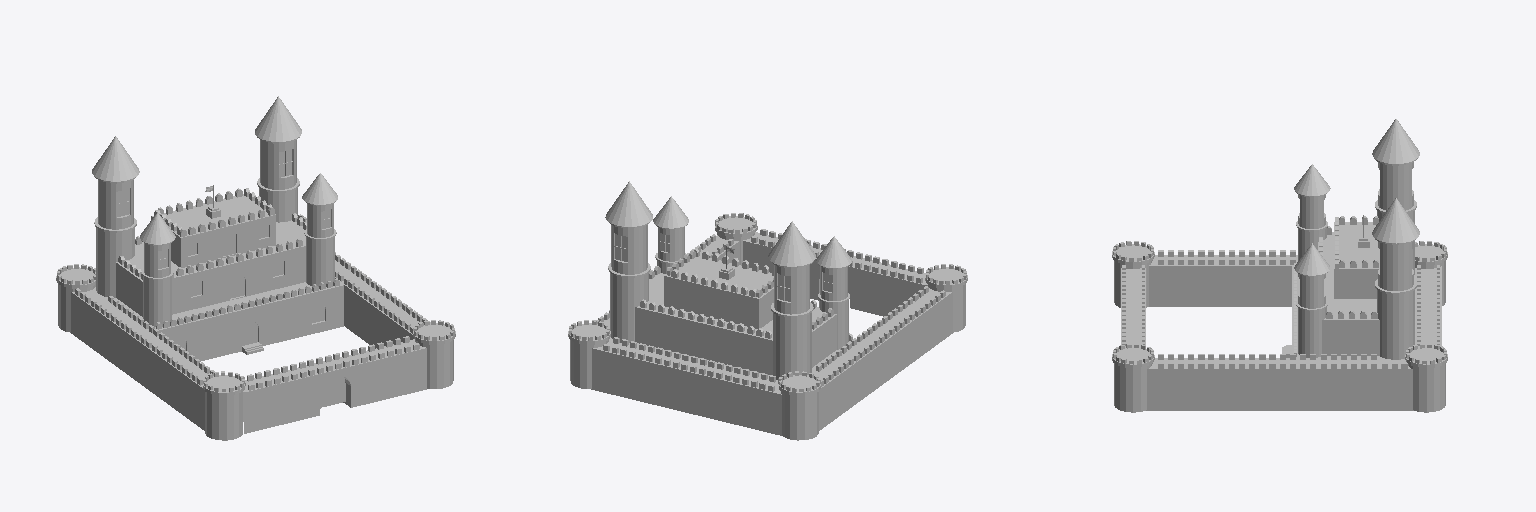
File: castle.obj
3 renders of one model, left to right at view 1: azimuth 30°, elevation 25°; view 2: azimuth 150°, elevation 25°; view 3: azimuth 270°, elevation 25°, orthographic.
Visible parts, largest first — view 1: Castle_Exterior1; view 2: Castle_Exterior1; view 3: Castle_Exterior1.
Part boxes in pixels (x1,y1,x2,y2): Castle_Exterior1: (56, 96, 455, 440); Castle_Exterior1: (568, 181, 967, 440); Castle_Exterior1: (1112, 119, 1447, 412).
Size of the model in its own units: 2.67 by 2.01 by 3.14.